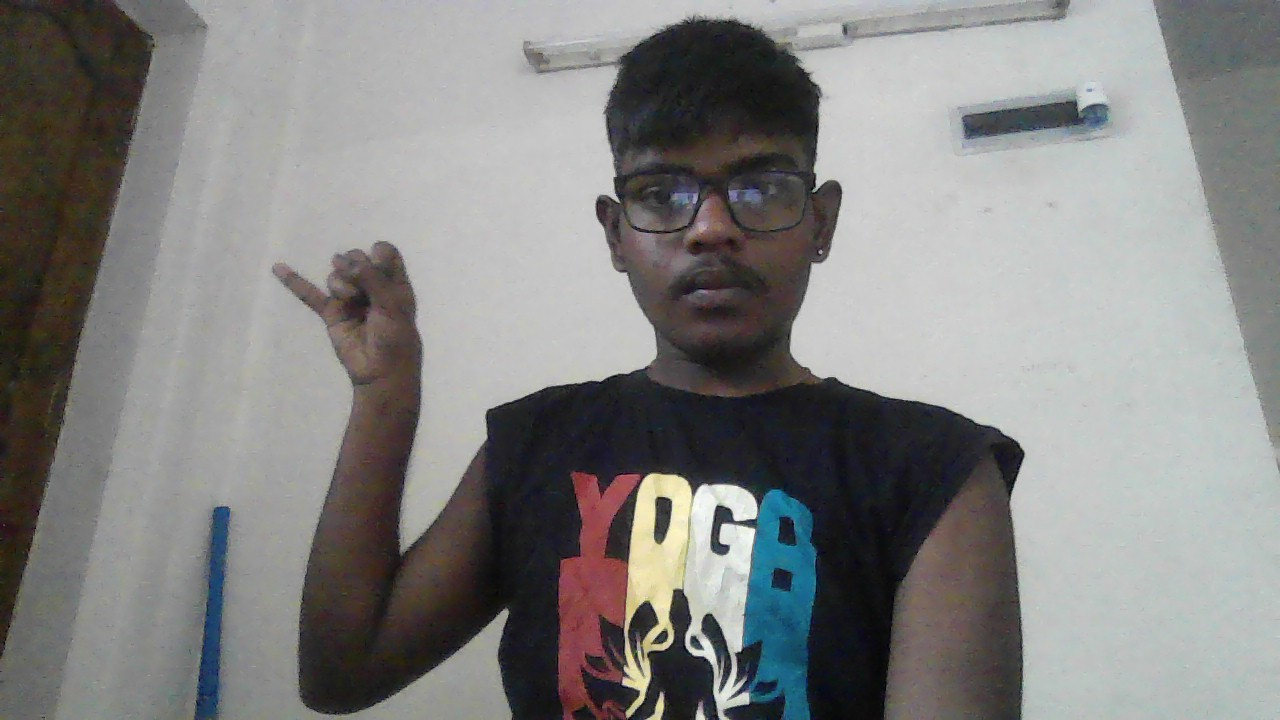J: (272, 240, 423, 392)
